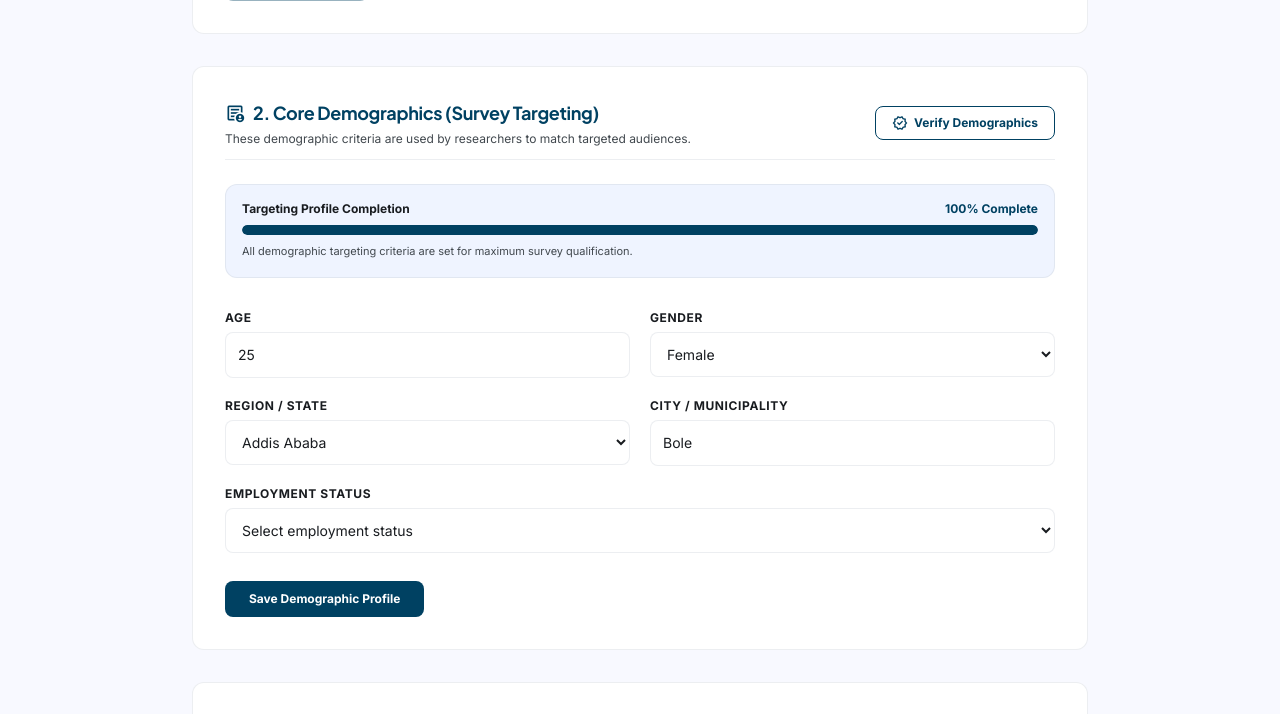
Test: ProfilePage (§3.3 Respondent Profile Page Rebuild) › displays inline validation error when age is out of range
(page scrolled)
Replace the text in the number field labelled "Age" with "10": (428,355) left=225, top=332, right=630, bottom=378
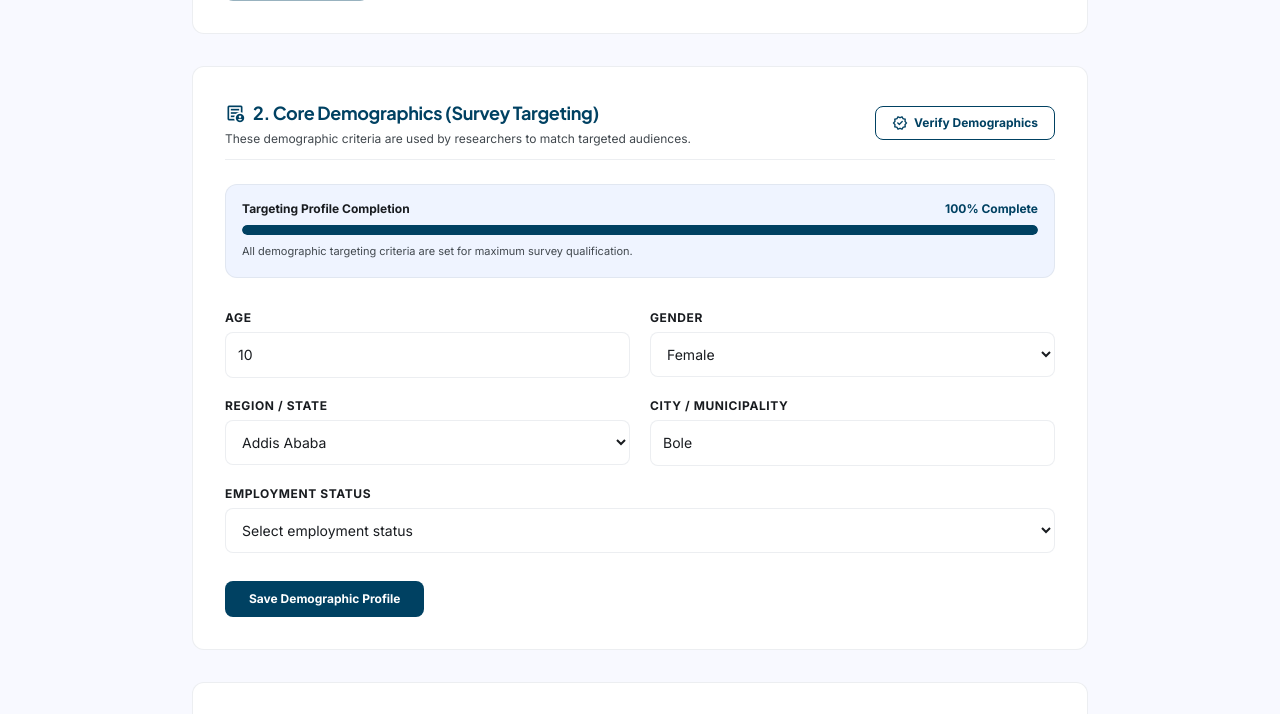
Click the button "Save Demographic Profile": (325,599) left=225, top=581, right=424, bottom=617
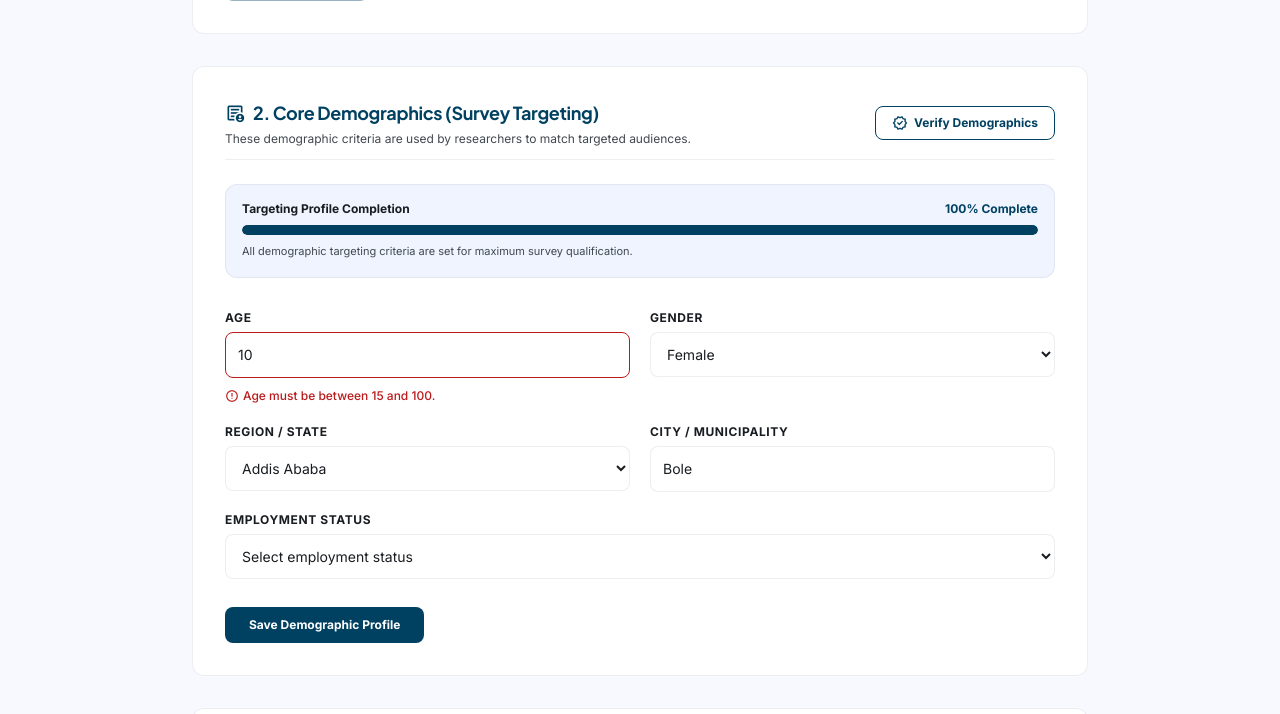
Now the text "Age must be between 15 and 100." is shown, box left=225, top=388, right=435, bottom=404
